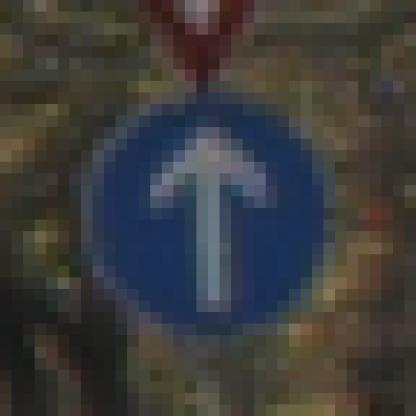AheadOnly: (59, 59, 348, 348)
